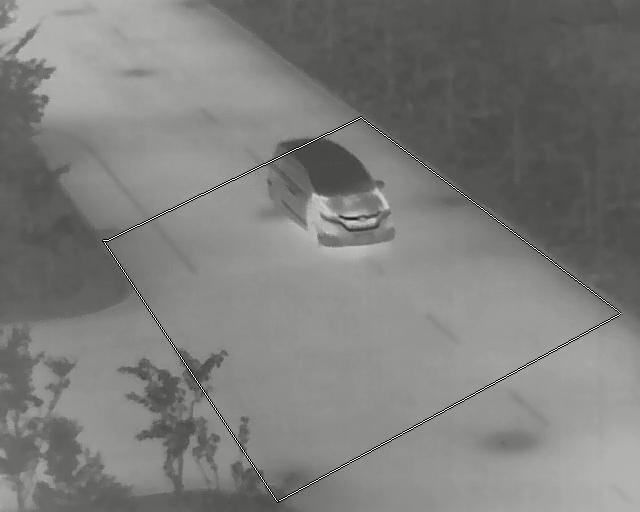vehicle: (266, 138, 396, 247)
